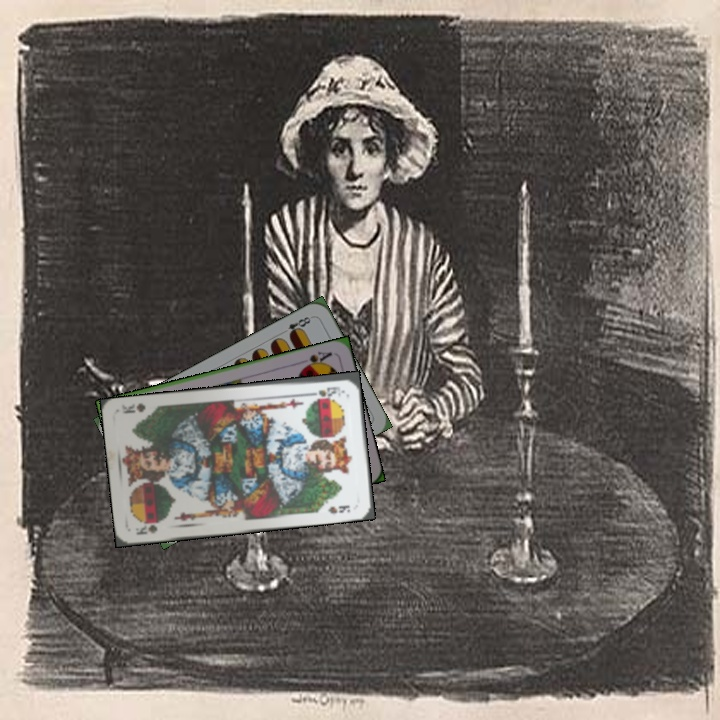E8: (278, 312, 315, 339)
SA: (297, 348, 335, 372)
SK: (304, 382, 345, 398), (132, 518, 163, 537)
